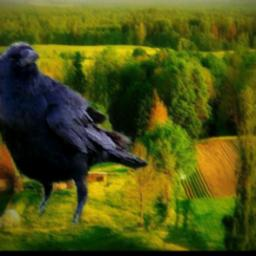Crow: (0, 41, 148, 226)
